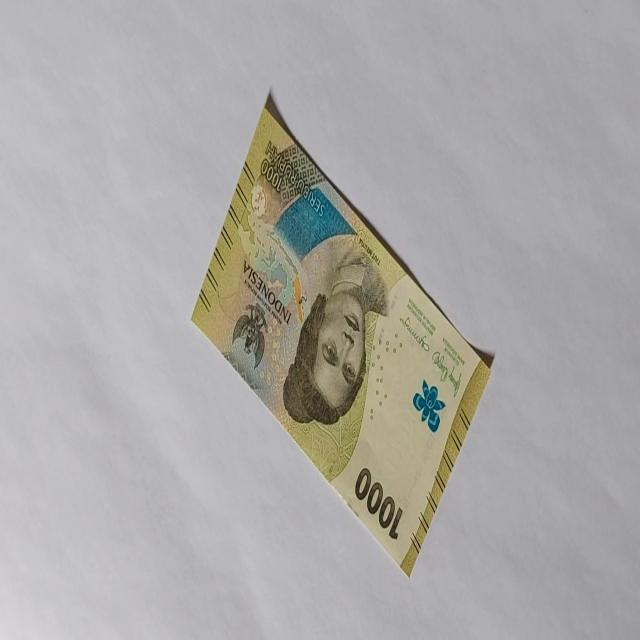seribu rupiah kertas: (190, 91, 494, 578)
